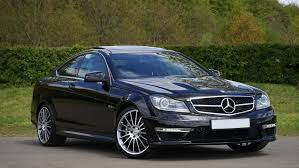sedan: (29, 43, 279, 159)
